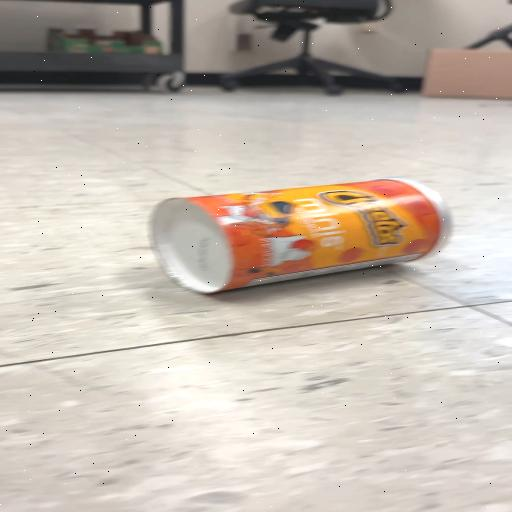pringles: (153, 179, 450, 293)
